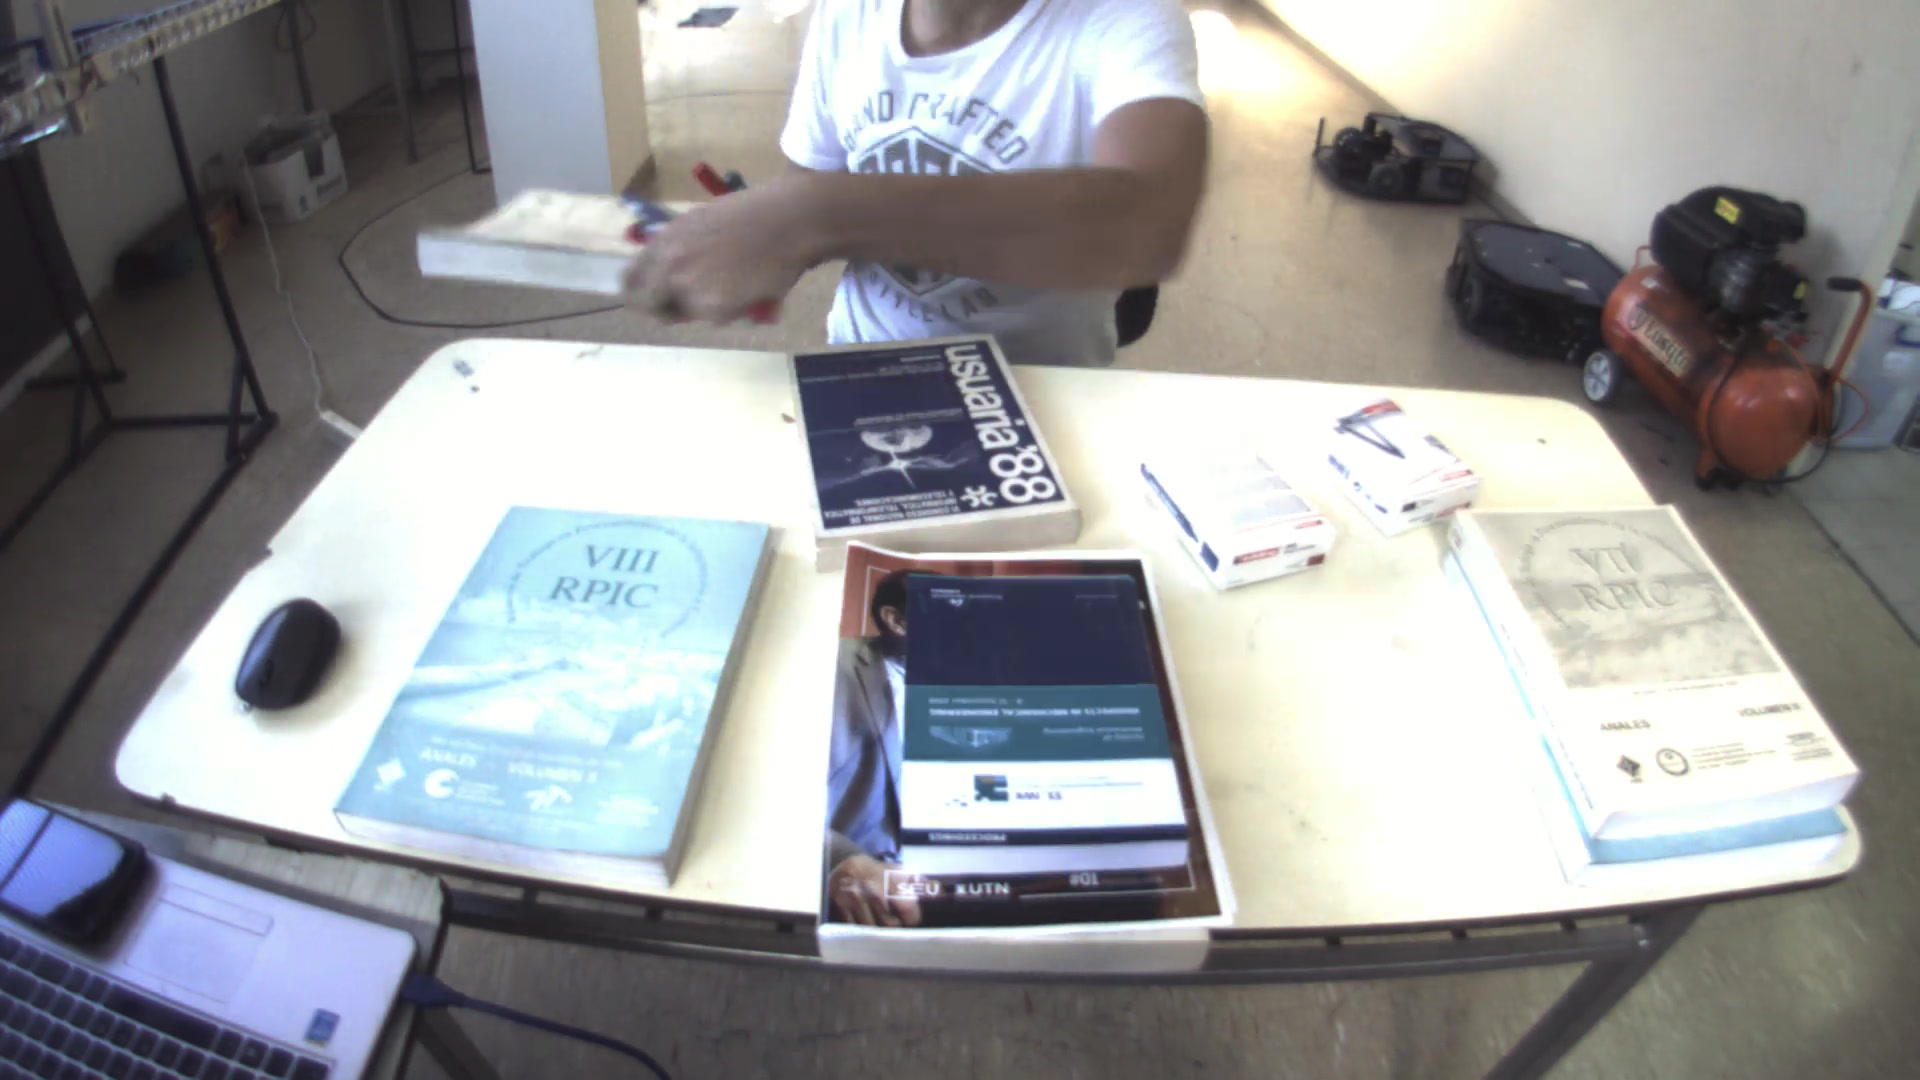hand: (618, 165, 811, 327)
